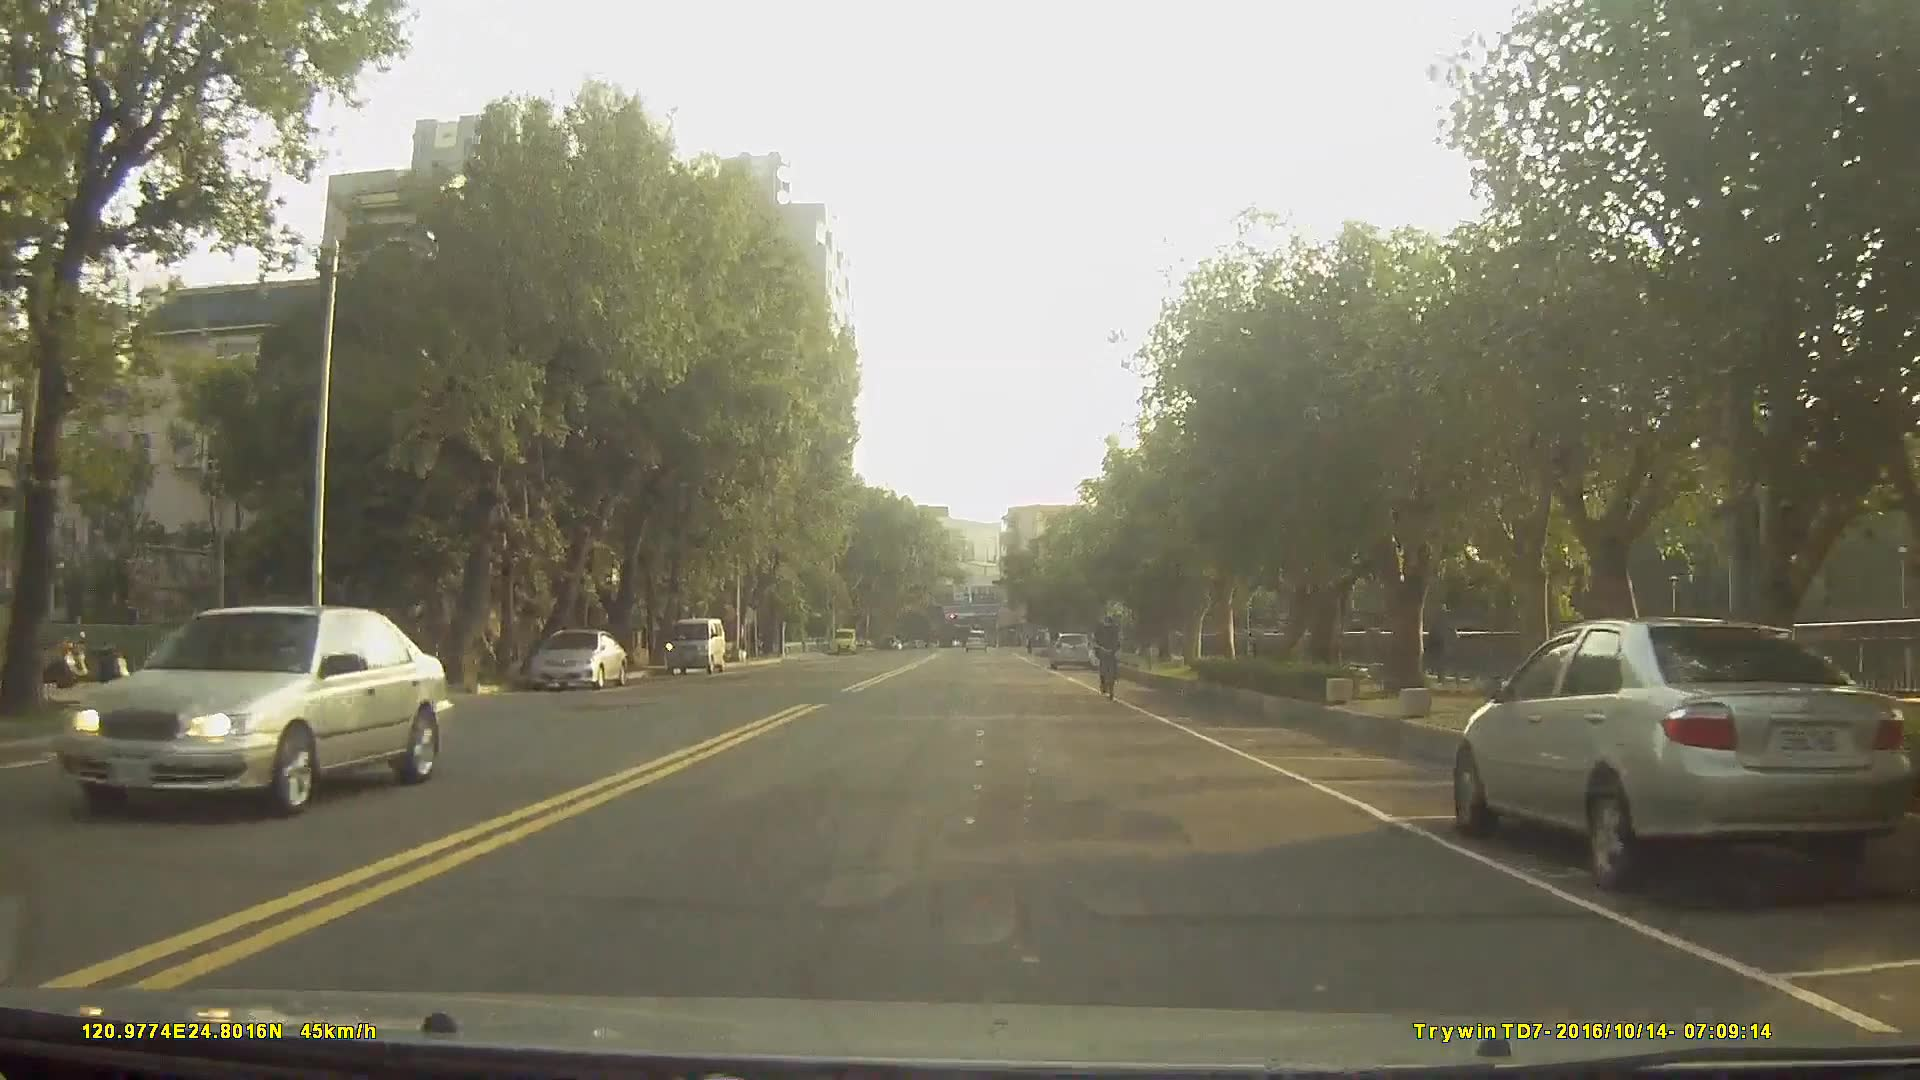rider: (1095, 615, 1124, 699)
vehicle: (1451, 613, 1912, 897), (51, 601, 452, 819), (527, 628, 626, 694), (661, 616, 725, 677), (1047, 631, 1092, 671), (963, 623, 988, 649)
